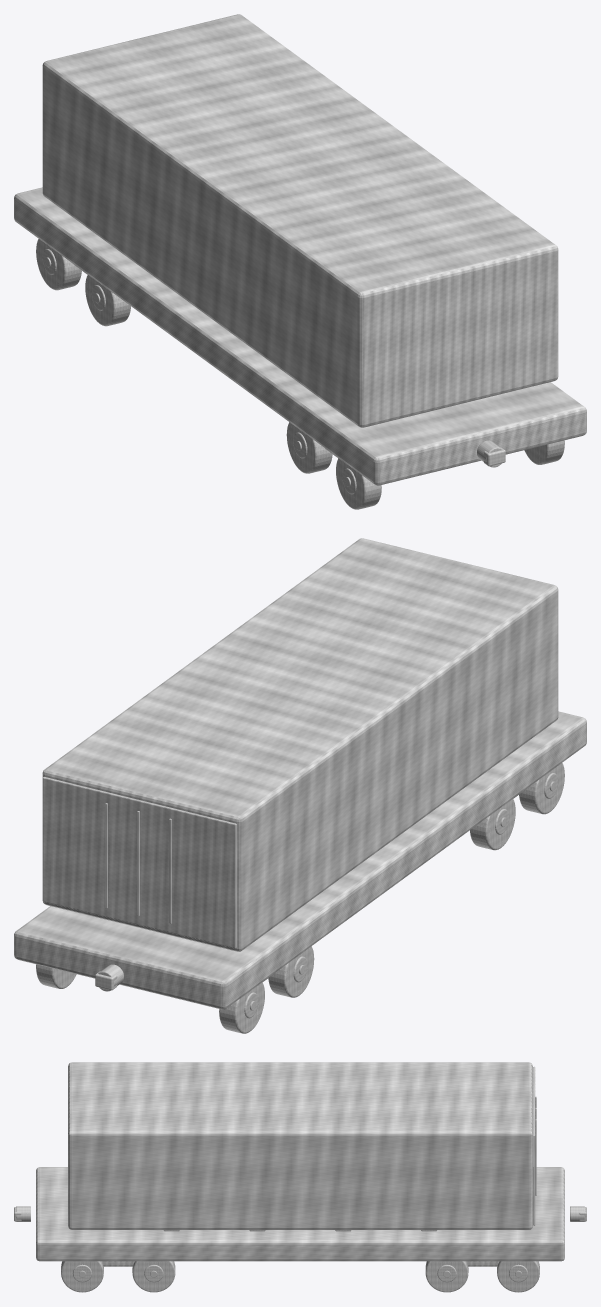
Rendered from freight_car_variant_b.glb.
The picture shows the model from 3 angles, top to bottom: view 1: azimuth 30°, elevation 25°; view 2: azimuth 150°, elevation 25°; view 3: azimuth 270°, elevation 25°; orthographic projection. The views are drawn at different scales.
Parts seen in each view (by area): view 1: Freight container, Freight underframe.001, Rail wheel.008, Rail wheel.012, Rail wheel.014, Rail wheel.010, Rail wheel.009; view 2: Freight container, Freight underframe.001, Container end doors, Rail wheel.014, Rail wheel.008, Rail wheel.010, Rail wheel.012, Rail wheel.015; view 3: Freight container, Freight underframe.001, Rail wheel.011, Rail wheel.013, Rail wheel.009, Rail wheel.015, Container end doors.
Boxes of the visible parts, bbox=[...] form: Freight container: bbox=[42, 14, 558, 427]; Freight underframe.001: bbox=[14, 187, 586, 485]; Rail wheel.008: bbox=[336, 458, 381, 509]; Rail wheel.012: bbox=[85, 275, 130, 326]; Rail wheel.014: bbox=[36, 239, 81, 290]; Rail wheel.010: bbox=[286, 422, 332, 473]; Rail wheel.009: bbox=[524, 440, 564, 464]; Freight container: bbox=[42, 538, 558, 951]; Freight underframe.001: bbox=[14, 711, 586, 1009]; Container end doors: bbox=[42, 776, 236, 948]; Rail wheel.014: bbox=[219, 982, 264, 1033]; Rail wheel.008: bbox=[519, 763, 564, 814]; Rail wheel.010: bbox=[470, 799, 515, 850]; Rail wheel.012: bbox=[268, 946, 314, 997]; Rail wheel.015: bbox=[36, 964, 76, 988]; Freight container: bbox=[68, 1062, 532, 1229]; Freight underframe.001: bbox=[36, 1167, 564, 1261]; Rail wheel.011: bbox=[132, 1261, 175, 1292]; Rail wheel.013: bbox=[425, 1261, 468, 1292]; Rail wheel.009: bbox=[61, 1261, 103, 1292]; Rail wheel.015: bbox=[497, 1261, 539, 1292]; Container end doors: bbox=[533, 1066, 535, 1225].
Size of what is drawn, in the model's own units: 5 by 4.95 by 16.03.
Materials: 4 (4 with a texture image).
